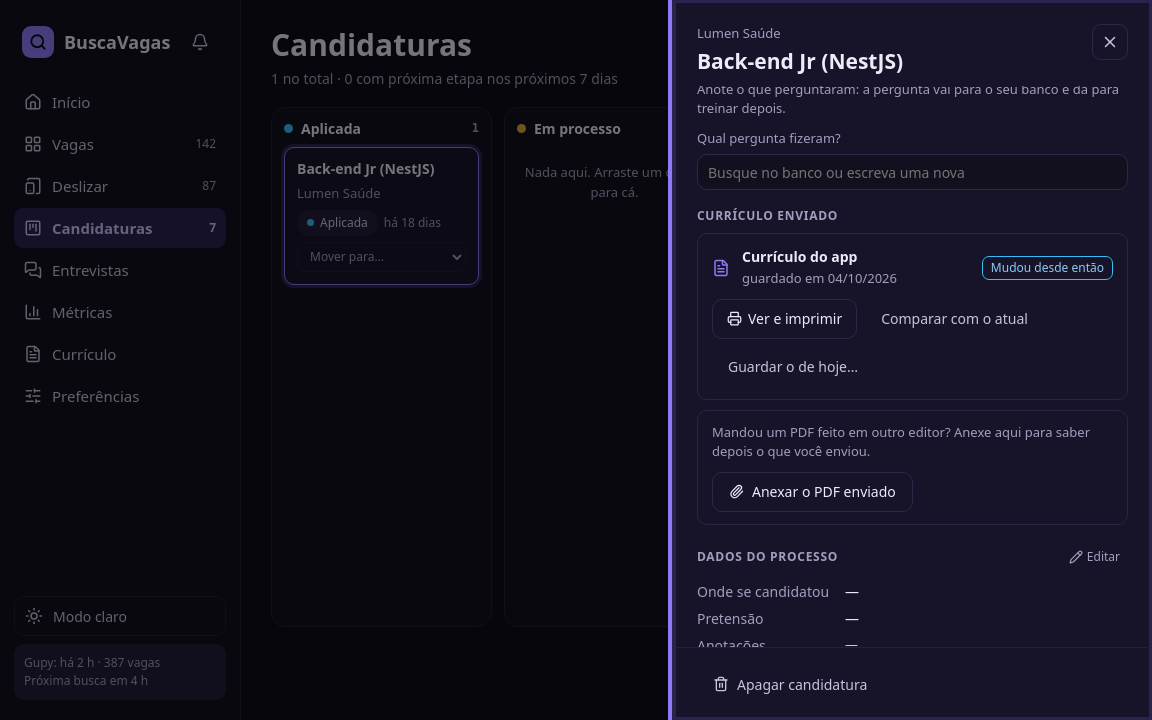
Scenario: Currículo enviado › trocar pela de hoje pede confirmação
This screenshot has width=1152, height=720.
(page scrolled)
Click the button "Guardar o de hoje…".
click(793, 367)  # box [712,347,874,387]
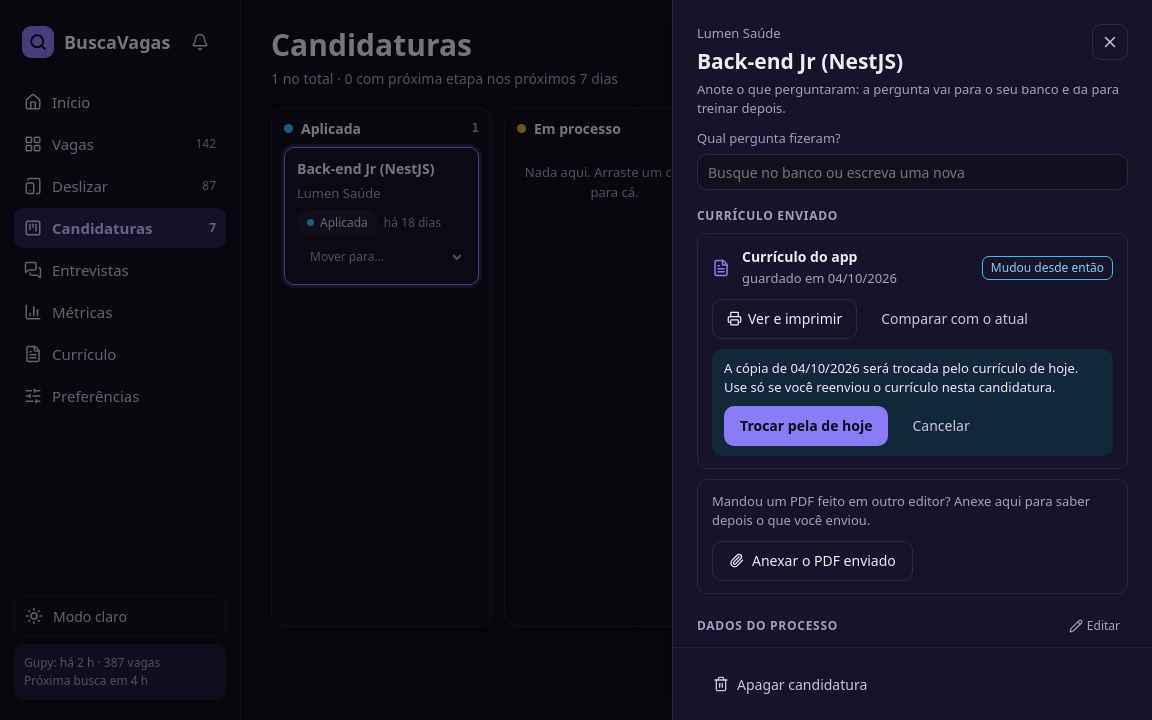
Click the button "Trocar pela de hoje".
click(806, 426)  # box [724,406,888,446]
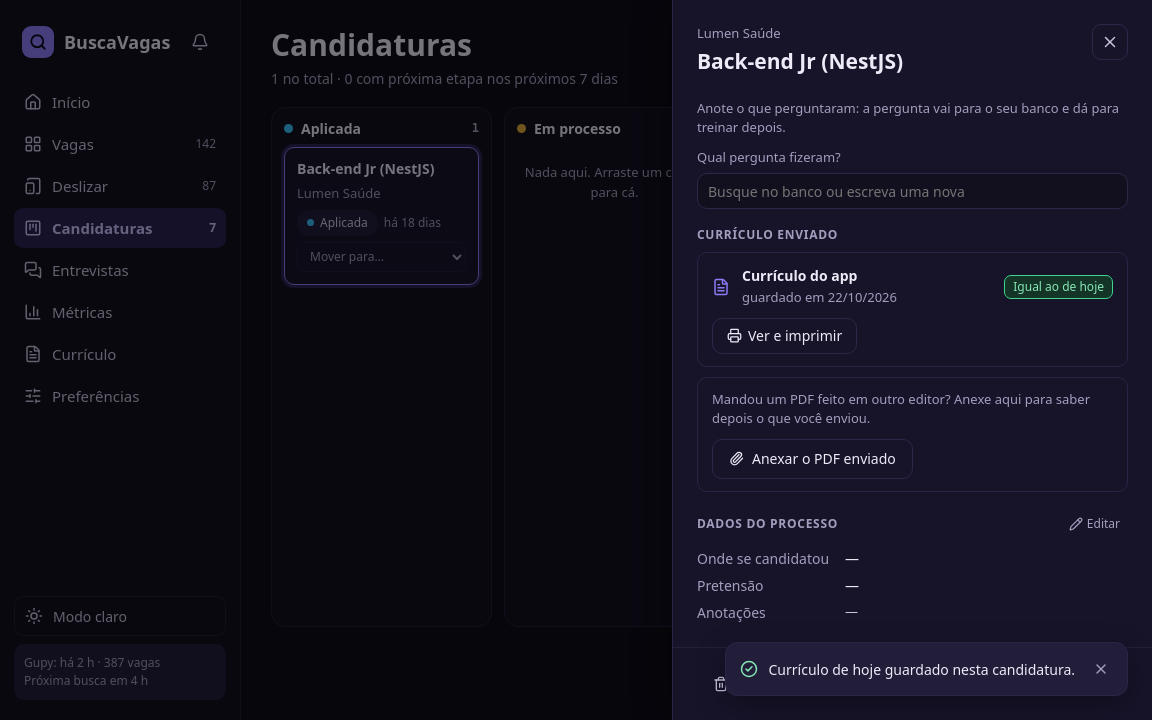
Check: the element "Currículo enviado" shows "Igual ao de hoje", box [1013,278,1104,294]
